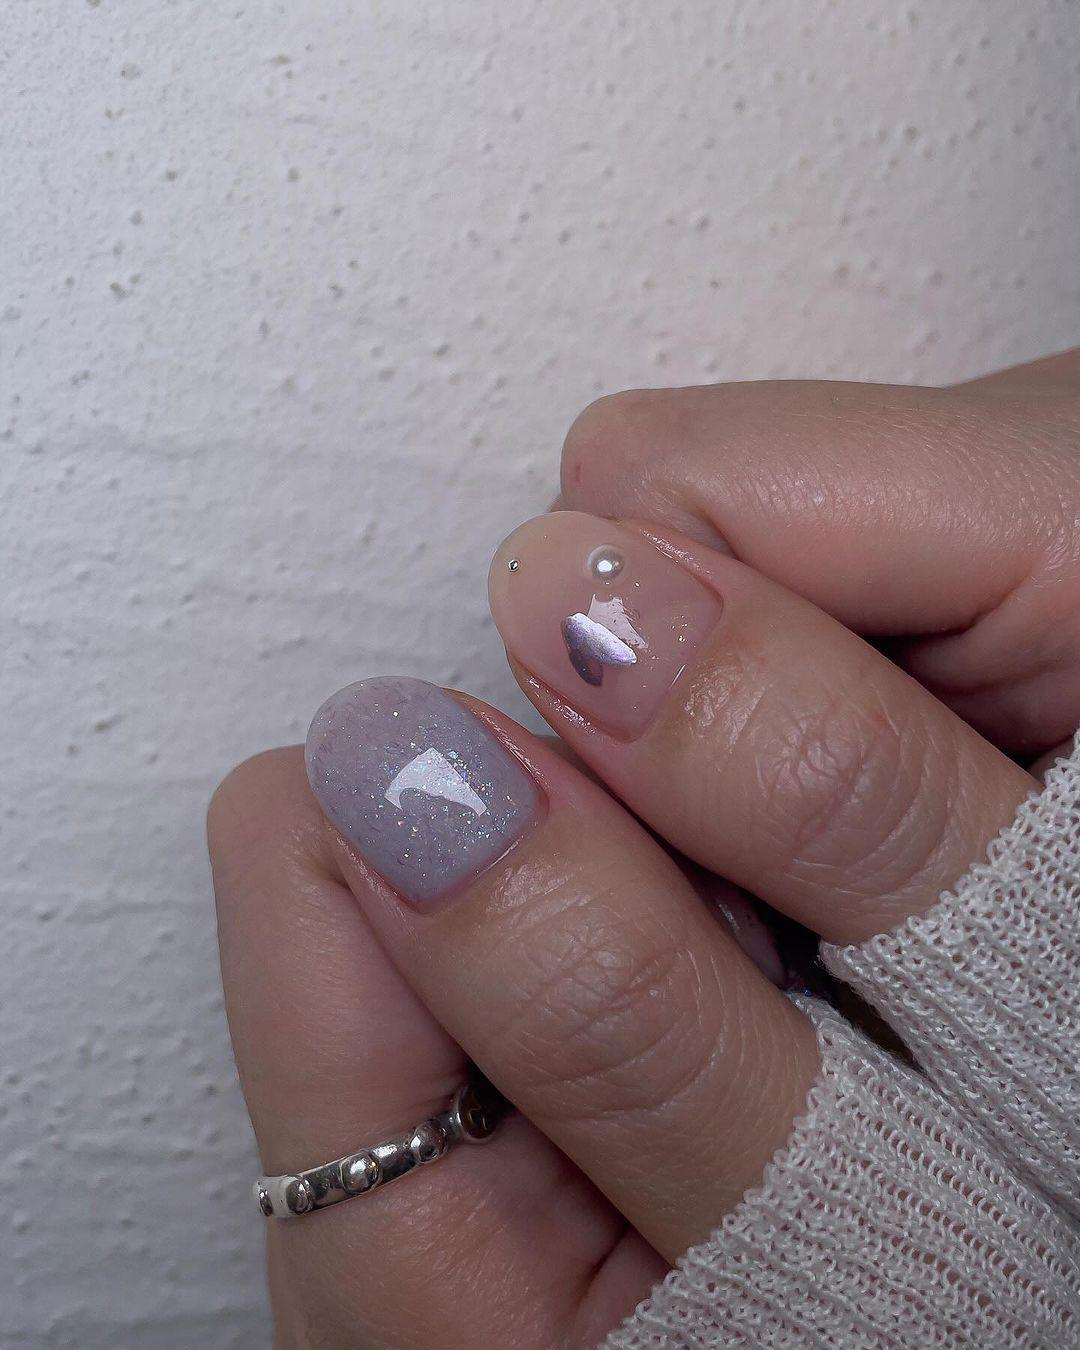nail: (302, 673, 548, 914), (490, 512, 720, 736)
